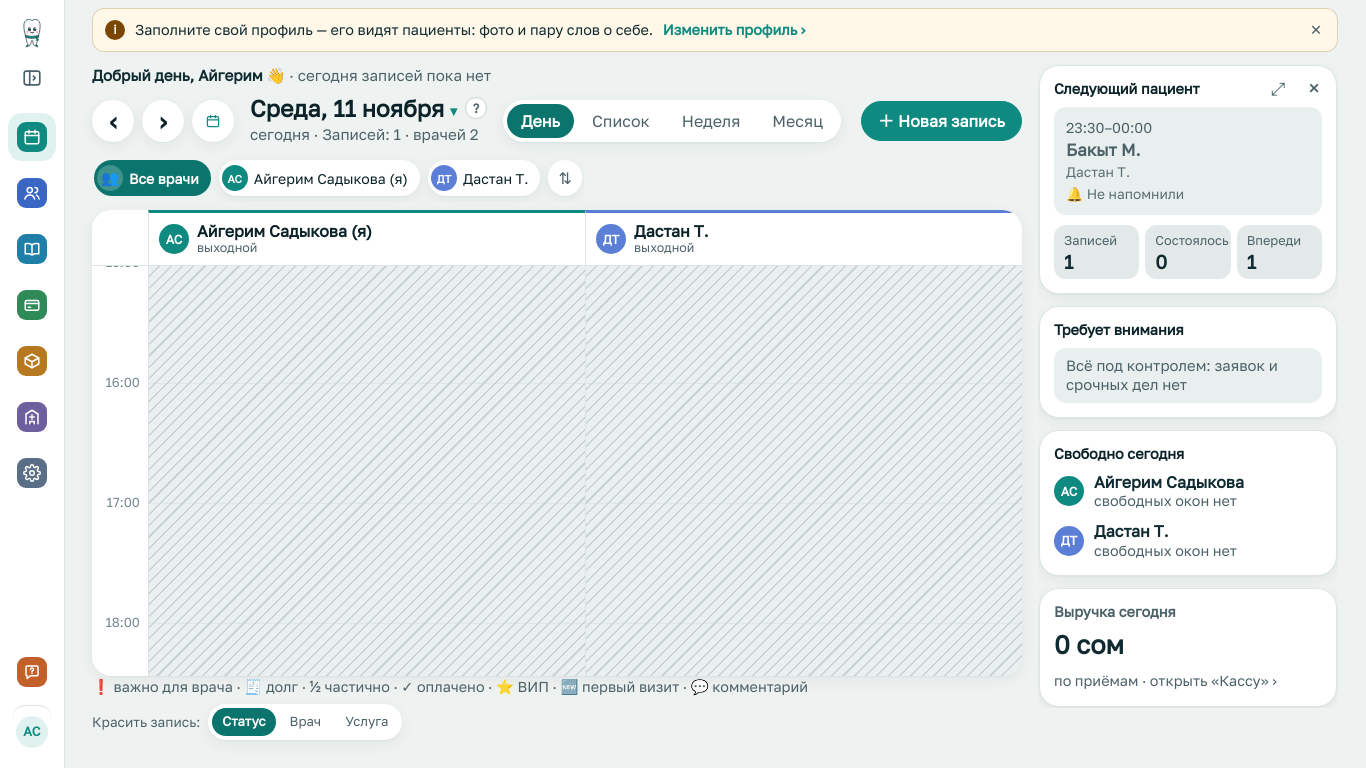
Test: врач без прав админа: в «Новой записи» — только он; пустое место у коллеги записи не открывает
Earlier steps of the test are not shown.
(page scrolled)
Click the button "＋ Новая запись" at (942, 120), box [861,100,1022,140]
(page scrolled)
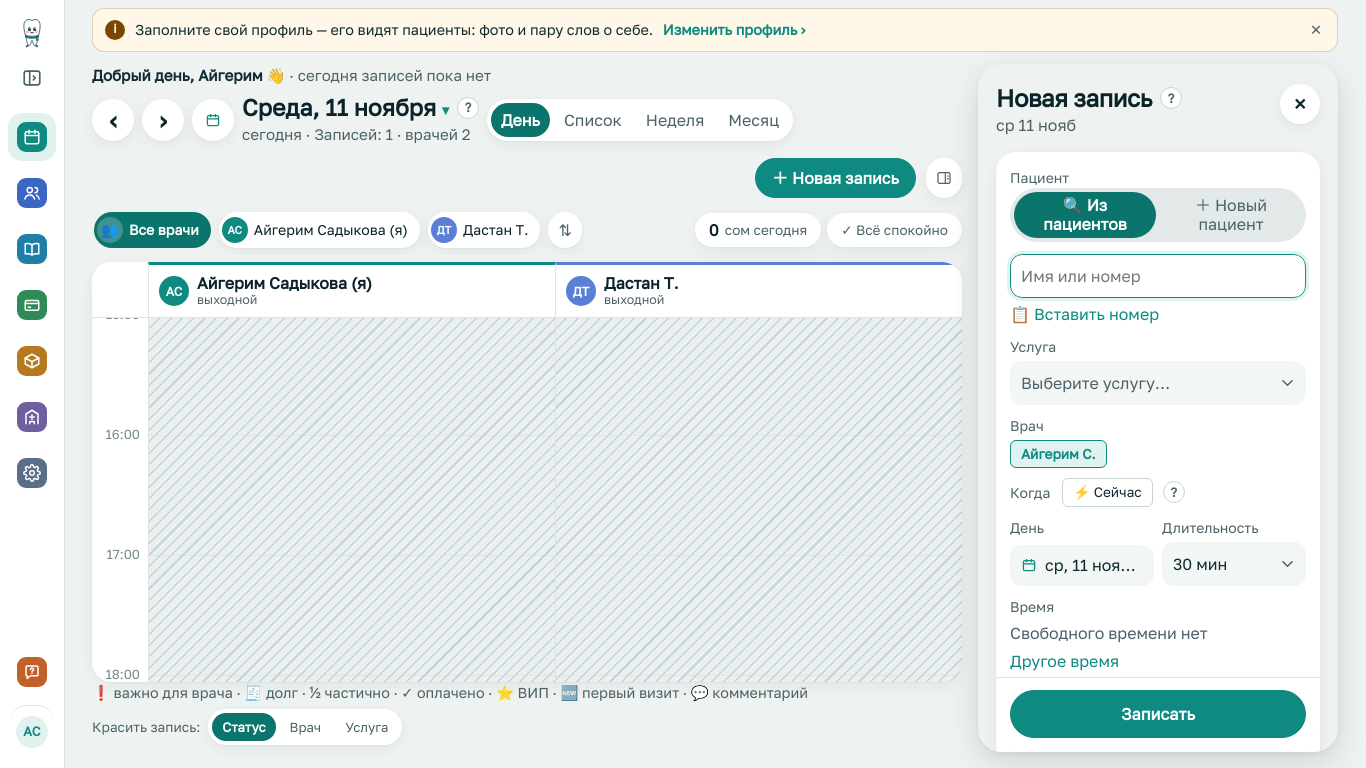
Check: the buttons read "Айгерим С.", in this order, box [1010,440,1107,468]
